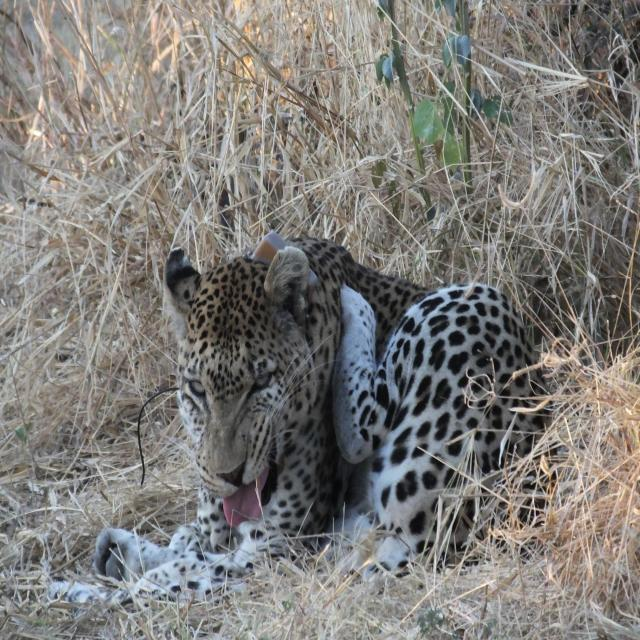Leopard: (127, 224, 592, 624)
